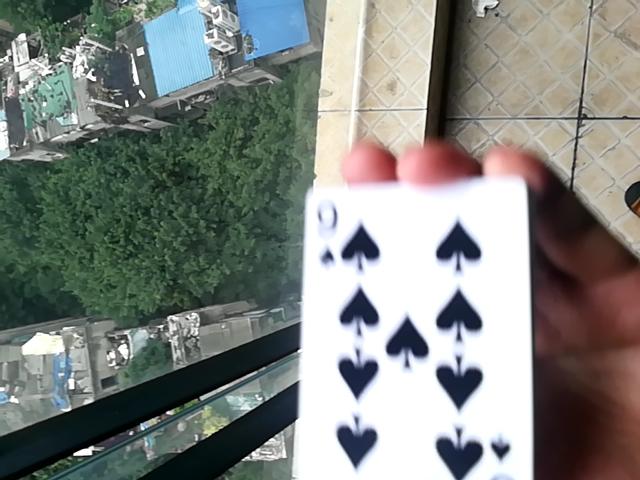ht 9: (294, 169, 537, 479)
